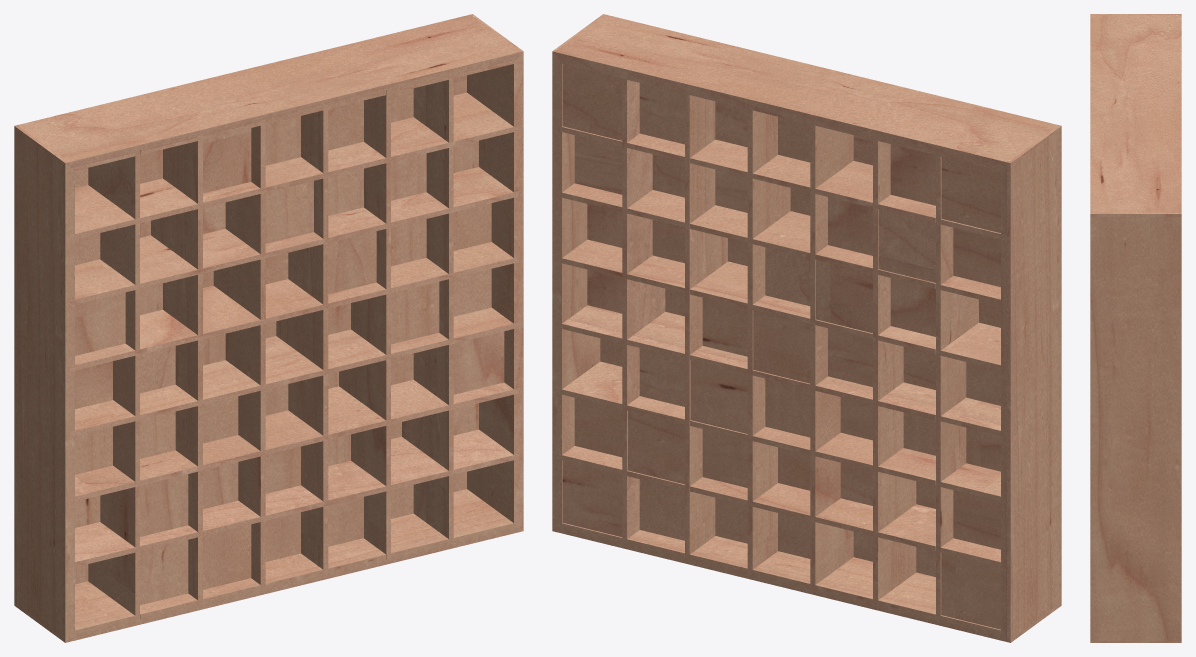
File: RealDiff HD.glb
3 renders of one model, left to right at view 1: azimuth 30°, elevation 25°; view 2: azimuth 150°, elevation 25°; view 3: azimuth 270°, elevation 25°, orthographic. The views are drawn at different scales.
Parts seen in each view (by area): view 1: RealDiff HD; view 2: RealDiff HD; view 3: RealDiff HD.
Part boxes in pixels (x1,y1,x2,y2): RealDiff HD: (14,14,523,642); RealDiff HD: (552,14,1061,642); RealDiff HD: (1090,14,1181,642).
Bounding box in the file's own units: 24 × 24 × 4.63.
1 material, 1 textured.
